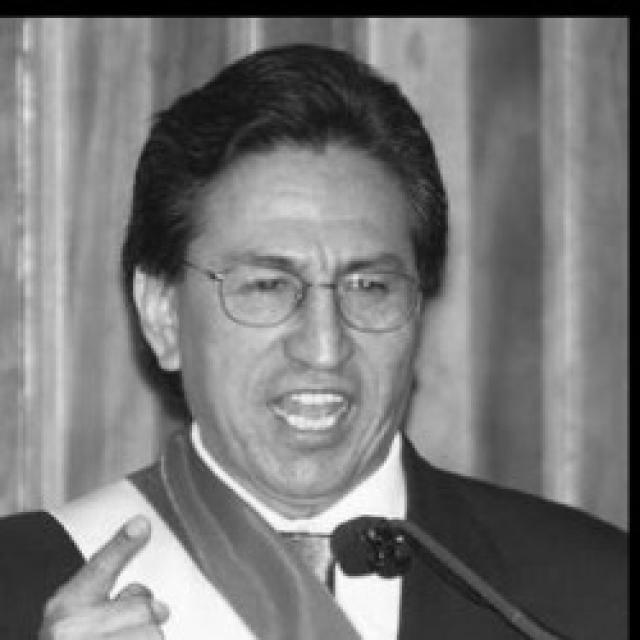real: (152, 111, 432, 504), (224, 250, 414, 320)
